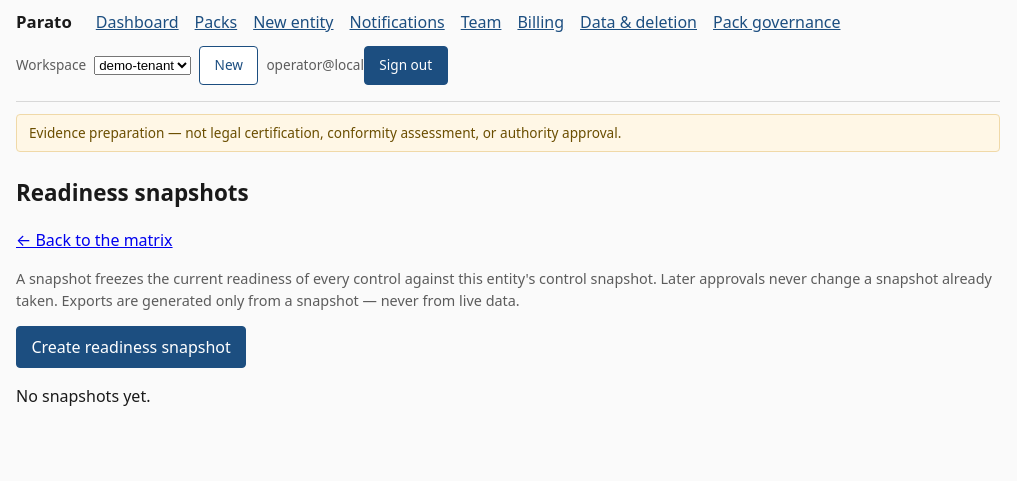
Test: SnapshotsPage › creates a snapshot and shows it in the list
Expected: the text "No snapshots yet." is shown, [16, 385, 150, 407]
Click the button "Create readiness snapshot" at (131, 347), box [16, 326, 246, 368]
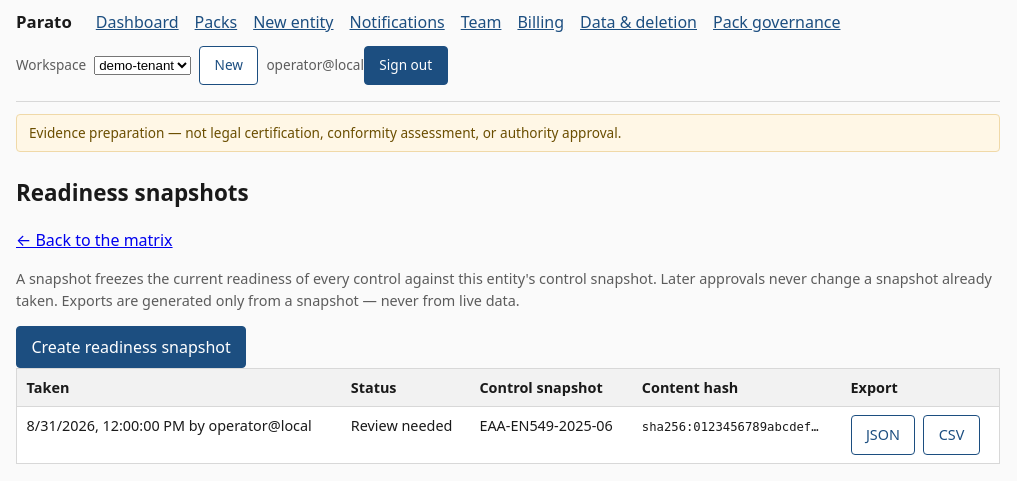
Result: the text "EAA-EN549-2025-06" is shown at [470, 407, 632, 464]
Result: the text "Review needed" is shown at [341, 407, 470, 464]
